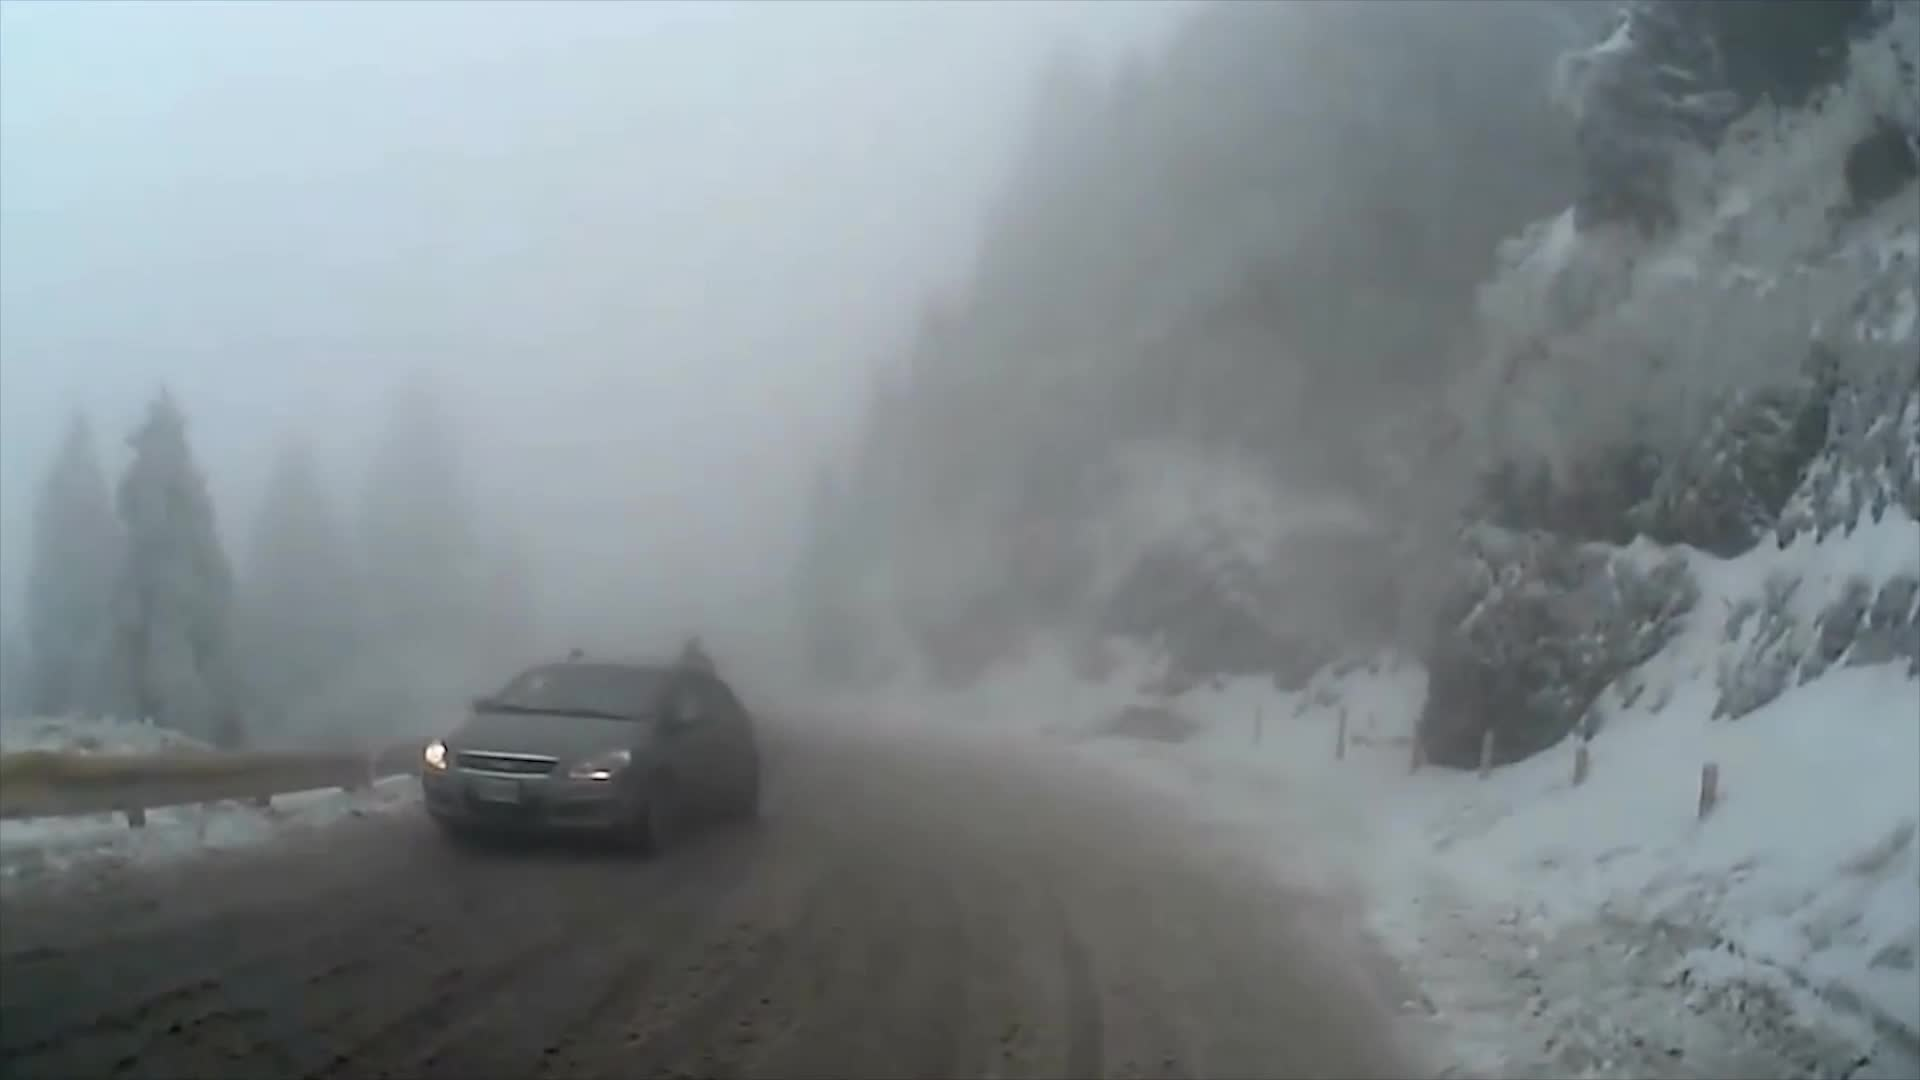vehicle: (426, 655, 764, 856)
